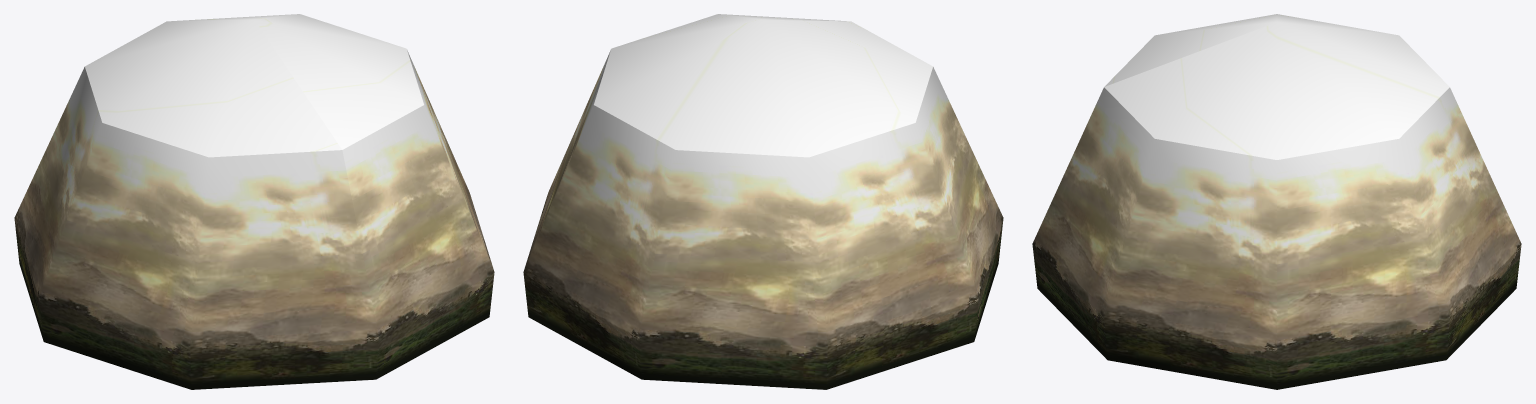
3 views of the same model, side by side, from view 1: azimuth 30°, elevation 25°; view 2: azimuth 150°, elevation 25°; view 3: azimuth 270°, elevation 25° (orthographic).
Visible parts, largest first — view 1: s; view 2: s; view 3: s.
Boxes of the visible parts, x1=… form: s: x1=14, y1=14, x2=494, y2=389; s: x1=523, y1=14, x2=1003, y2=389; s: x1=1032, y1=14, x2=1521, y2=389.
Size of the model in its own units: 4410 by 2652 by 4410.
